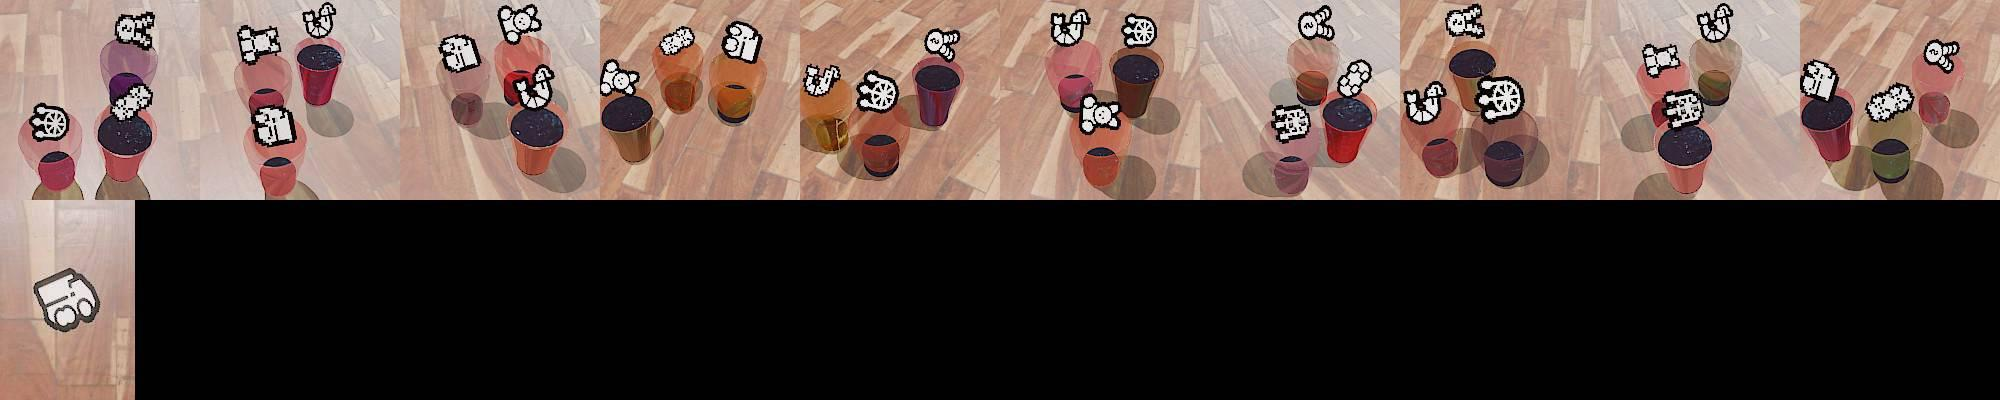icon: (32, 268, 101, 332), (1474, 75, 1526, 122), (508, 64, 557, 111), (1402, 76, 1448, 126), (853, 68, 901, 113), (250, 103, 297, 146), (1864, 83, 1915, 122), (1077, 92, 1122, 135), (237, 23, 283, 65), (496, 3, 542, 45), (721, 20, 764, 64), (437, 33, 483, 73), (107, 82, 153, 121), (1270, 101, 1314, 141), (598, 57, 642, 98), (1661, 89, 1705, 129), (1800, 59, 1839, 102), (1048, 6, 1089, 47), (29, 102, 70, 141), (114, 11, 156, 50), (1444, 3, 1486, 39), (1694, 4, 1733, 42), (1297, 4, 1335, 42), (1335, 59, 1372, 98), (1640, 42, 1680, 79), (801, 62, 841, 98), (1121, 13, 1158, 48), (300, 3, 337, 38), (923, 27, 960, 62), (1922, 39, 1960, 74), (658, 25, 696, 57)
